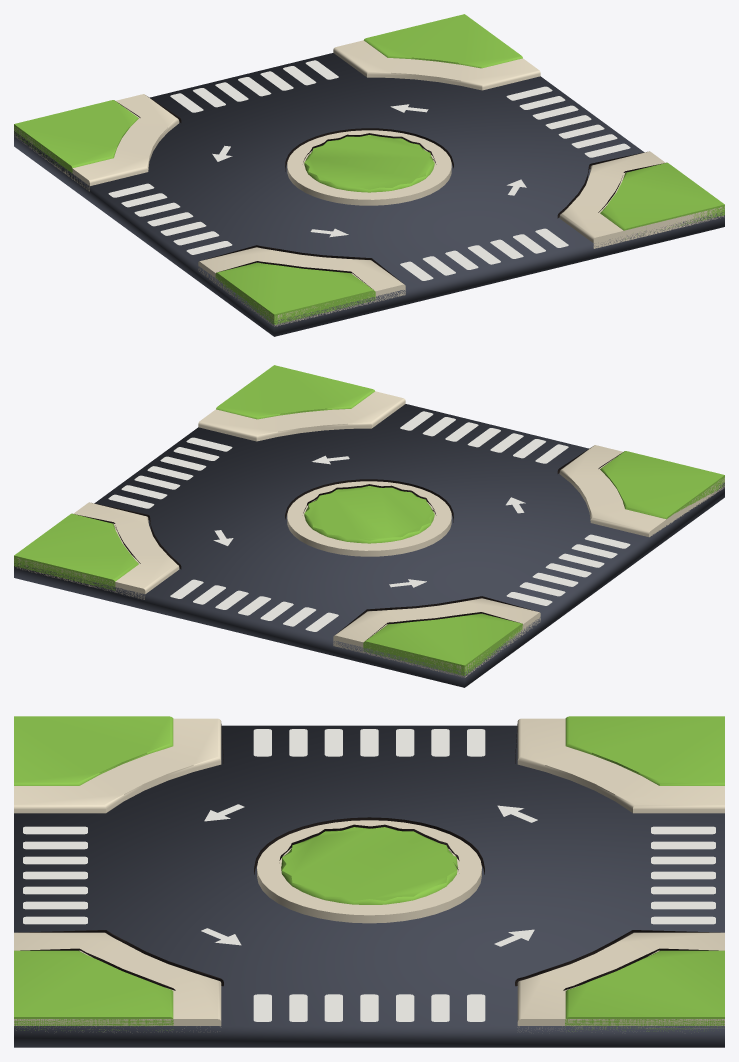
The model's file is Road_Roundabout.fbx.
The picture shows the model from 3 angles, top to bottom: view 1: azimuth 30°, elevation 25°; view 2: azimuth 150°, elevation 25°; view 3: azimuth 270°, elevation 25°; orthographic projection. The views are drawn at different scales.
Visible parts, largest first — view 1: Tile_Road_Roundabout_Asphalt, Tile_Road_Roundabout_Grass, Tile_Road_Roundabout_Sidewalk, Tile_Road_Roundabout_LineWhite, Tile_Road_Roundabout_Outline; view 2: Tile_Road_Roundabout_Asphalt, Tile_Road_Roundabout_Grass, Tile_Road_Roundabout_Sidewalk, Tile_Road_Roundabout_LineWhite, Tile_Road_Roundabout_Outline; view 3: Tile_Road_Roundabout_Asphalt, Tile_Road_Roundabout_Grass, Tile_Road_Roundabout_Sidewalk, Tile_Road_Roundabout_LineWhite, Tile_Road_Roundabout_Outline.
Boxes of the visible parts, left/top/right/bottom form: Tile_Road_Roundabout_Asphalt: left=14, top=53, right=724, bottom=336; Tile_Road_Roundabout_Grass: left=14, top=14, right=724, bottom=324; Tile_Road_Roundabout_Sidewalk: left=14, top=40, right=724, bottom=326; Tile_Road_Roundabout_LineWhite: left=108, top=60, right=630, bottom=280; Tile_Road_Roundabout_Outline: left=117, top=96, right=663, bottom=289; Tile_Road_Roundabout_Asphalt: left=14, top=404, right=724, bottom=687; Tile_Road_Roundabout_Grass: left=14, top=365, right=724, bottom=675; Tile_Road_Roundabout_Sidewalk: left=14, top=391, right=724, bottom=677; Tile_Road_Roundabout_LineWhite: left=108, top=411, right=630, bottom=631; Tile_Road_Roundabout_Outline: left=75, top=447, right=621, bottom=639; Tile_Road_Roundabout_Asphalt: left=14, top=725, right=724, bottom=1047; Tile_Road_Roundabout_Grass: left=14, top=716, right=724, bottom=1031; Tile_Road_Roundabout_Sidewalk: left=14, top=718, right=724, bottom=1032; Tile_Road_Roundabout_LineWhite: left=23, top=729, right=715, bottom=1021; Tile_Road_Roundabout_Outline: left=18, top=724, right=720, bottom=990.
Bounding box in the file's own units: 24 × 1.32 × 24.
